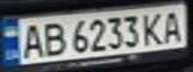2: (87, 16, 109, 52)
3: (121, 12, 145, 48), (106, 15, 127, 51)
6: (66, 16, 90, 55)
A: (15, 21, 48, 60), (157, 7, 187, 44)
B: (39, 19, 69, 57)
K: (139, 9, 169, 46)
